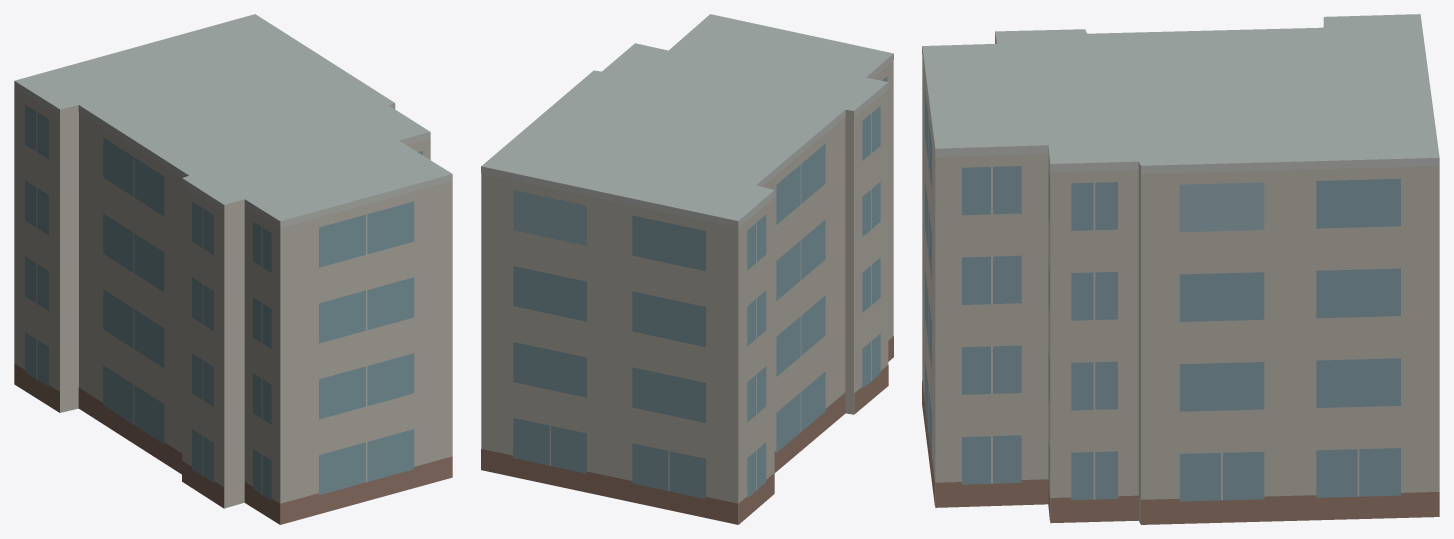
The model's file is survey-upis-32954721.glb.
3 views of the same model, side by side, from view 1: azimuth 30°, elevation 25°; view 2: azimuth 150°, elevation 25°; view 3: azimuth 270°, elevation 25° (orthographic). The views are drawn at different scales.
Visible parts, largest first — view 1: survey-upis-32954721.tmp; view 2: survey-upis-32954721.tmp; view 3: survey-upis-32954721.tmp.
Part boxes in pixels (x1=…): survey-upis-32954721.tmp: x1=14, y1=14, x2=452, y2=524; survey-upis-32954721.tmp: x1=481, y1=14, x2=893, y2=524; survey-upis-32954721.tmp: x1=922, y1=14, x2=1439, y2=524.
Bounding box in the file's own units: 9.71 × 10.7 × 13.98.
